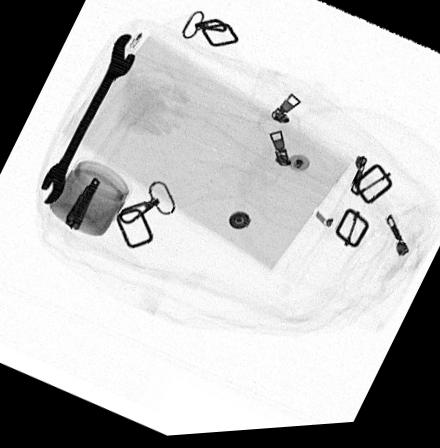Wrench: (38, 34, 137, 205)
